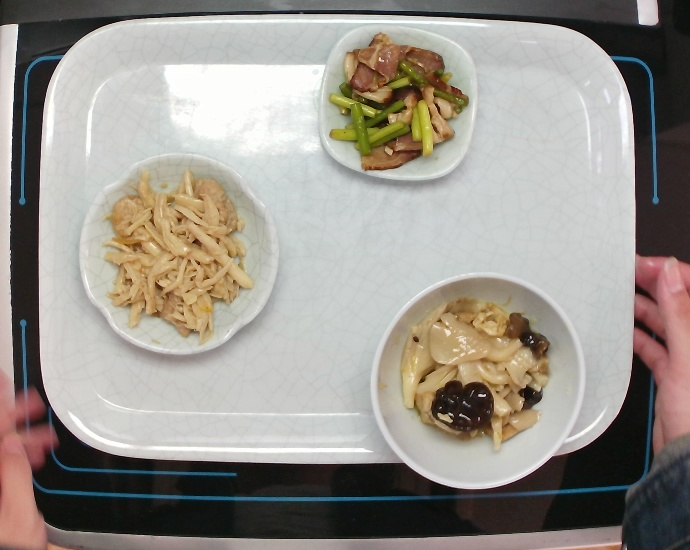JYsf-Ao_Yuan_Wan: (75, 145, 286, 358)
JYsf-Fan_Wan: (365, 269, 588, 493)
JYsf-Si_Fang_Die: (313, 21, 481, 185)
